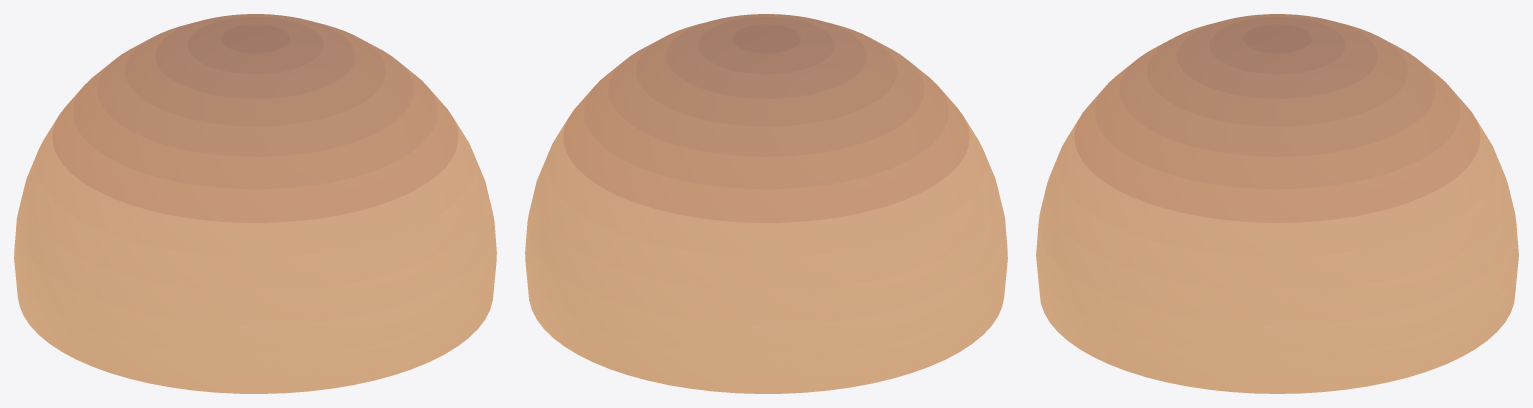
The model's file is sky.dae.
3 renders of one model, left to right at view 1: azimuth 30°, elevation 25°; view 2: azimuth 150°, elevation 25°; view 3: azimuth 270°, elevation 25°, orthographic.
Parts seen in each view (by area): view 1: sky_band_0, sky_band_3, sky_band_2, sky_band_4, sky_band_1, sky_band_5, sky_band_6, sky_band_7, sky_band_8, sky_band_9, sky_band_10, sky_band_11; view 2: sky_band_0, sky_band_3, sky_band_2, sky_band_4, sky_band_1, sky_band_5, sky_band_6, sky_band_7, sky_band_8, sky_band_9, sky_band_10, sky_band_11; view 3: sky_band_0, sky_band_3, sky_band_2, sky_band_4, sky_band_1, sky_band_5, sky_band_6, sky_band_7, sky_band_8, sky_band_9, sky_band_10, sky_band_11.
Part boxes in pixels (x1=…): sky_band_0: x1=14, y1=261, x2=496, y2=393; sky_band_3: x1=24, y1=150, x2=486, y2=291; sky_band_2: x1=16, y1=183, x2=494, y2=325; sky_band_4: x1=36, y1=116, x2=474, y2=257; sky_band_1: x1=14, y1=219, x2=496, y2=357; sky_band_5: x1=52, y1=87, x2=458, y2=222; sky_band_6: x1=73, y1=61, x2=437, y2=189; sky_band_7: x1=97, y1=39, x2=413, y2=156; sky_band_8: x1=125, y1=21, x2=385, y2=126; sky_band_9: x1=155, y1=14, x2=355, y2=98; sky_band_10: x1=187, y1=16, x2=323, y2=74; sky_band_11: x1=221, y1=24, x2=289, y2=53; sky_band_0: x1=525, y1=261, x2=1007, y2=393; sky_band_3: x1=535, y1=150, x2=997, y2=291; sky_band_2: x1=527, y1=183, x2=1005, y2=325; sky_band_4: x1=547, y1=116, x2=985, y2=257; sky_band_1: x1=525, y1=219, x2=1007, y2=357; sky_band_5: x1=563, y1=87, x2=969, y2=222; sky_band_6: x1=584, y1=61, x2=948, y2=189; sky_band_7: x1=608, y1=39, x2=924, y2=156; sky_band_8: x1=636, y1=21, x2=896, y2=126; sky_band_9: x1=666, y1=14, x2=866, y2=98; sky_band_10: x1=698, y1=16, x2=834, y2=74; sky_band_11: x1=732, y1=24, x2=800, y2=53; sky_band_0: x1=1036, y1=260, x2=1518, y2=393; sky_band_3: x1=1045, y1=149, x2=1509, y2=291; sky_band_2: x1=1038, y1=186, x2=1516, y2=325; sky_band_4: x1=1058, y1=118, x2=1496, y2=257; sky_band_1: x1=1036, y1=225, x2=1518, y2=357; sky_band_5: x1=1074, y1=86, x2=1480, y2=222; sky_band_6: x1=1095, y1=61, x2=1459, y2=189; sky_band_7: x1=1119, y1=39, x2=1435, y2=156; sky_band_8: x1=1147, y1=21, x2=1407, y2=126; sky_band_9: x1=1177, y1=14, x2=1377, y2=98; sky_band_10: x1=1209, y1=16, x2=1345, y2=74; sky_band_11: x1=1243, y1=24, x2=1311, y2=53.
Size of the model in its own units: 350 by 350 by 205.
